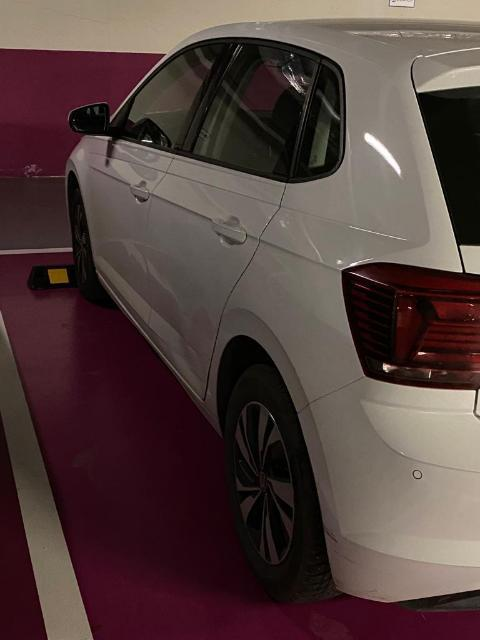dent: (168, 339, 200, 378)
scratch: (325, 526, 340, 545), (342, 554, 358, 566), (332, 549, 340, 558)
